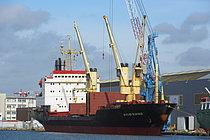Ship: (19, 15, 180, 134)
